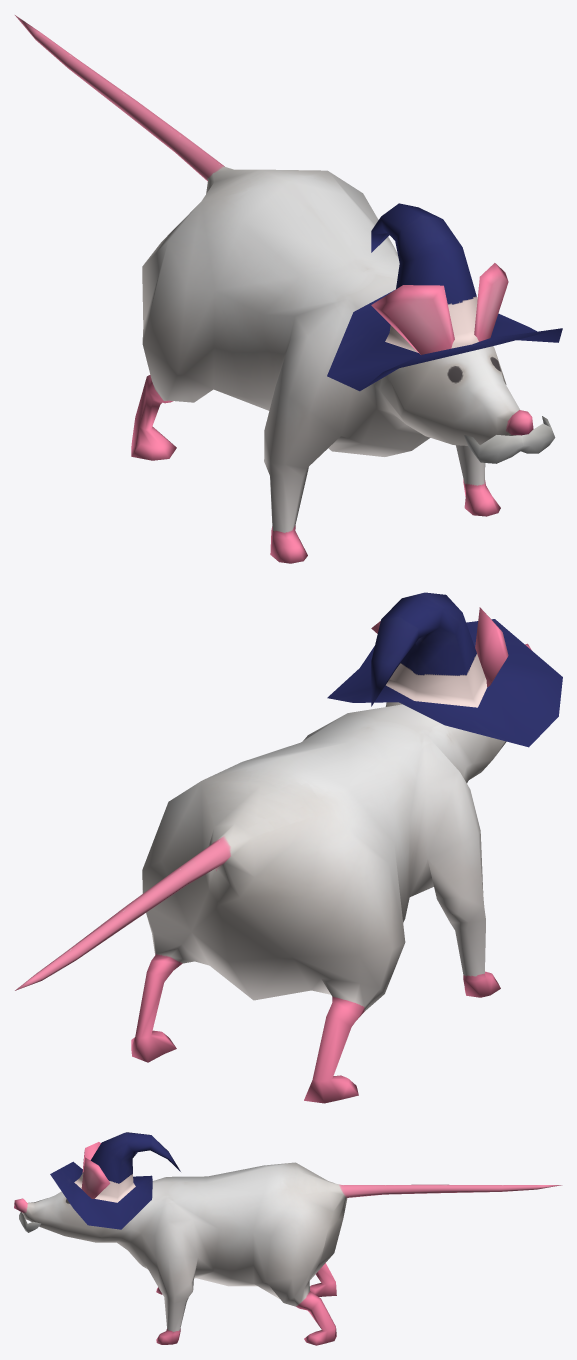
File: Raton.fbx
The picture shows the model from 3 angles, top to bottom: view 1: azimuth 30°, elevation 25°; view 2: azimuth 150°, elevation 25°; view 3: azimuth 270°, elevation 25°; orthographic projection. The views are drawn at different scales.
Visible parts, largest first — view 1: Raton; view 2: Raton; view 3: Raton.
Boxes of the visible parts, x1,y1,x2,y2 form: Raton: (15, 15, 562, 563); Raton: (15, 592, 562, 1103); Raton: (14, 1132, 562, 1345).
Bounding box in the file's own units: 0.1561 × 0.2048 × 0.5561.
